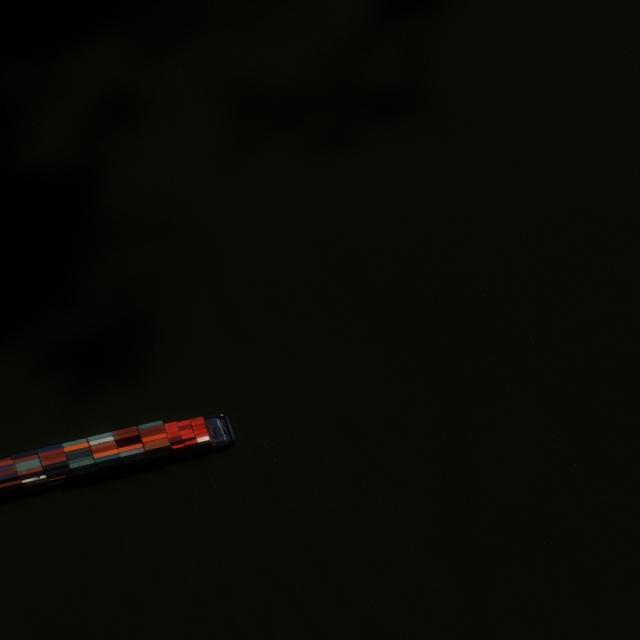Container Ship: (1, 412, 235, 493)
